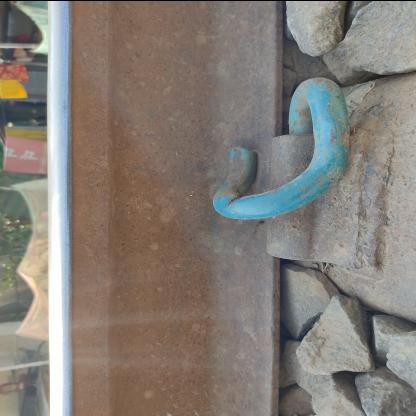Non Defective: (134, 55, 402, 298)
